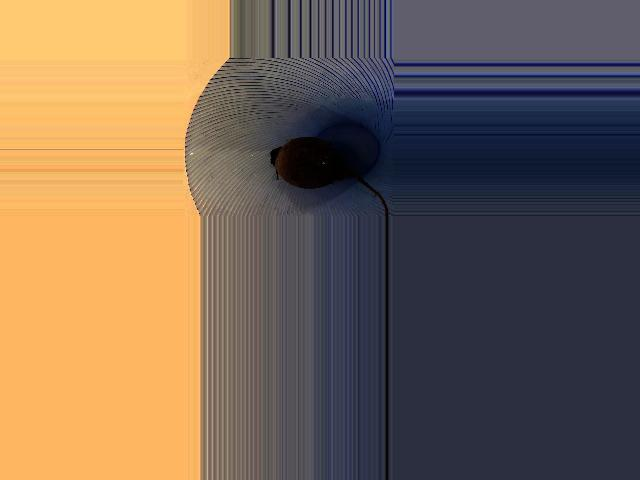beet: (269, 137, 387, 217)
